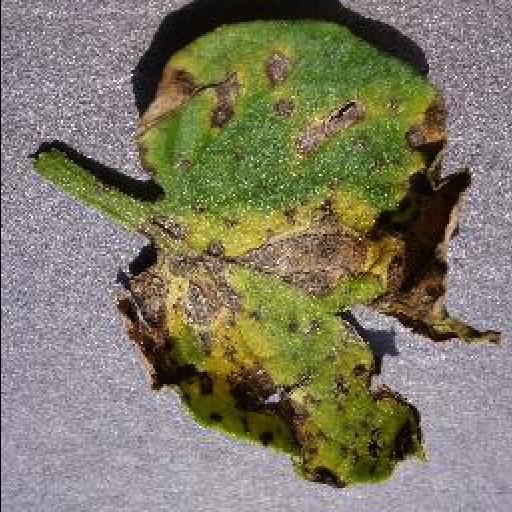disease_tomato: (116, 22, 502, 488)
